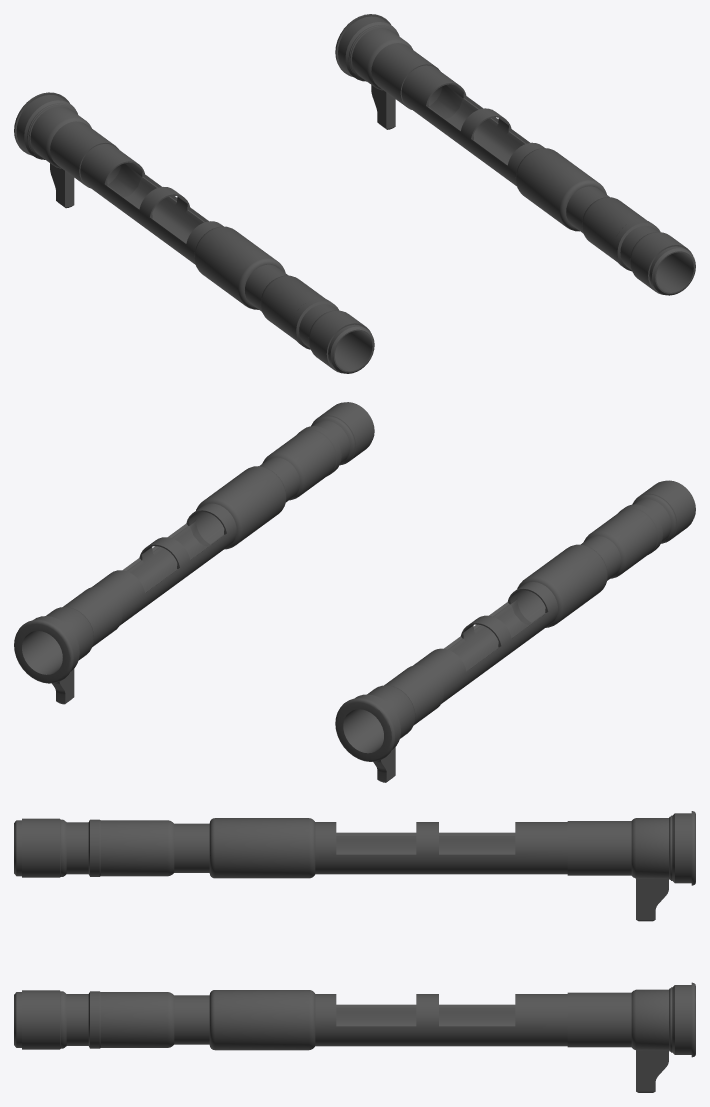
The model's file is DualCannons.fbx.
3 renders of one model, top to bottom at view 1: azimuth 30°, elevation 25°; view 2: azimuth 150°, elevation 25°; view 3: azimuth 270°, elevation 25°, orthographic. The views are drawn at different scales.
Parts seen in each view (by area): view 1: Cannons; view 2: Cannons; view 3: Cannons.
Part boxes in pixels (<box>): Cannons: <box>14,14,695,373</box>; Cannons: <box>14,402,695,782</box>; Cannons: <box>14,811,695,1092</box>.
Size of the model in its own units: 3.6 by 0.8707 by 5.1.
Materials: 1 (1 with a texture image).
